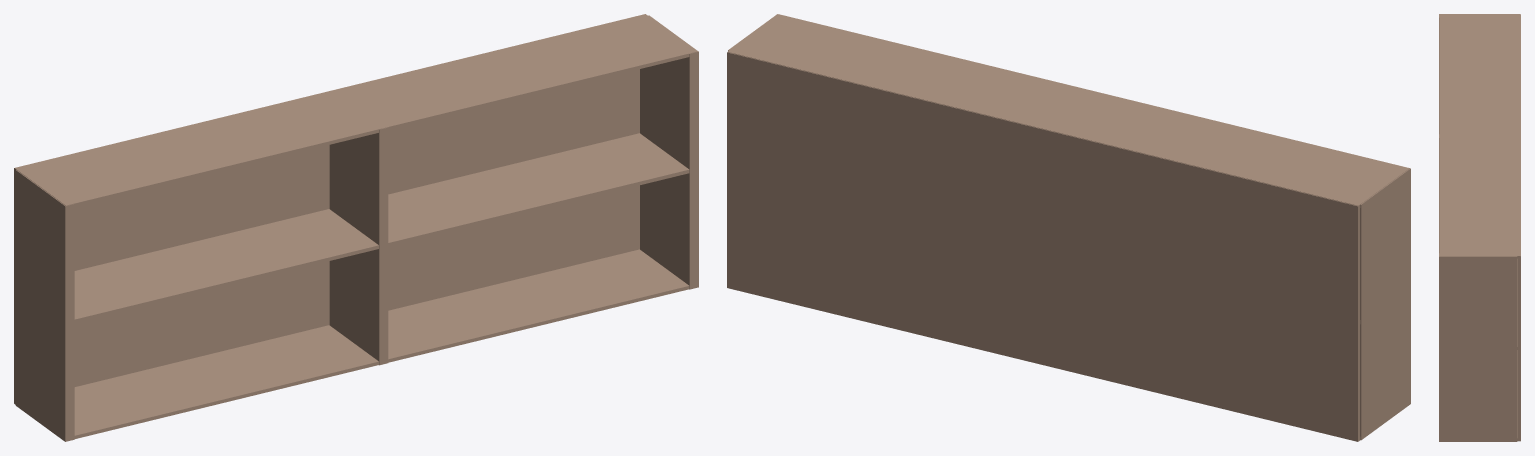
Rendered from Shelf_13.fbx.
The picture shows the model from 3 angles, left to right: view 1: azimuth 30°, elevation 25°; view 2: azimuth 150°, elevation 25°; view 3: azimuth 270°, elevation 25°; orthographic projection. The views are drawn at different scales.
Visible parts, largest first — view 1: Shelf_13; view 2: Shelf_13; view 3: Shelf_13.
Part boxes in pixels (x1,y1,x2,y2): Shelf_13: (14,14,698,441); Shelf_13: (727,14,1410,441); Shelf_13: (1439,14,1520,441).
Size of the model in its own units: 189 by 26.92 by 67.39.
